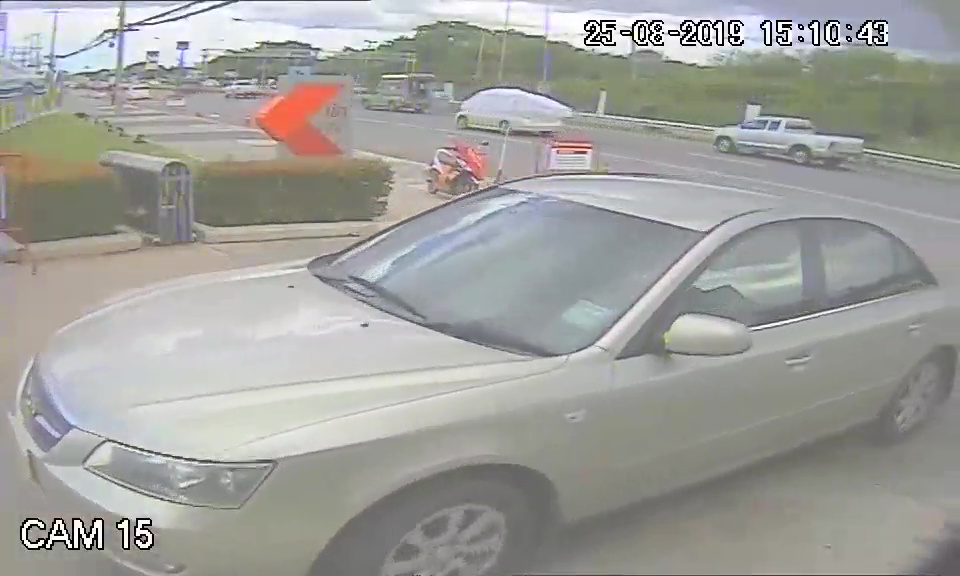sedan: (9, 169, 726, 575)
